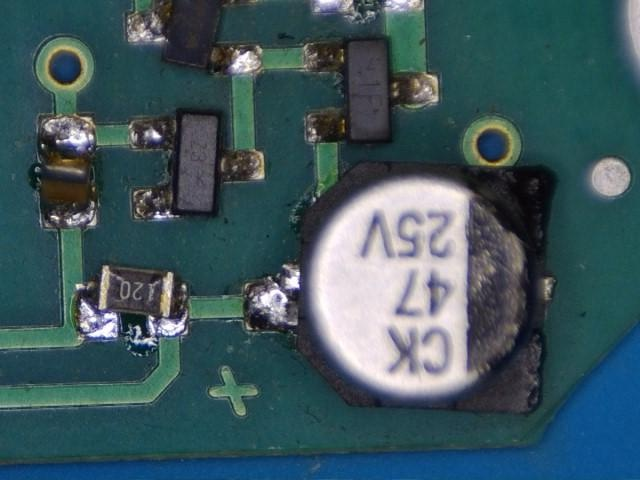pcb_defect: (244, 160, 555, 414), (125, 0, 262, 76), (75, 264, 188, 339), (38, 116, 96, 227)
